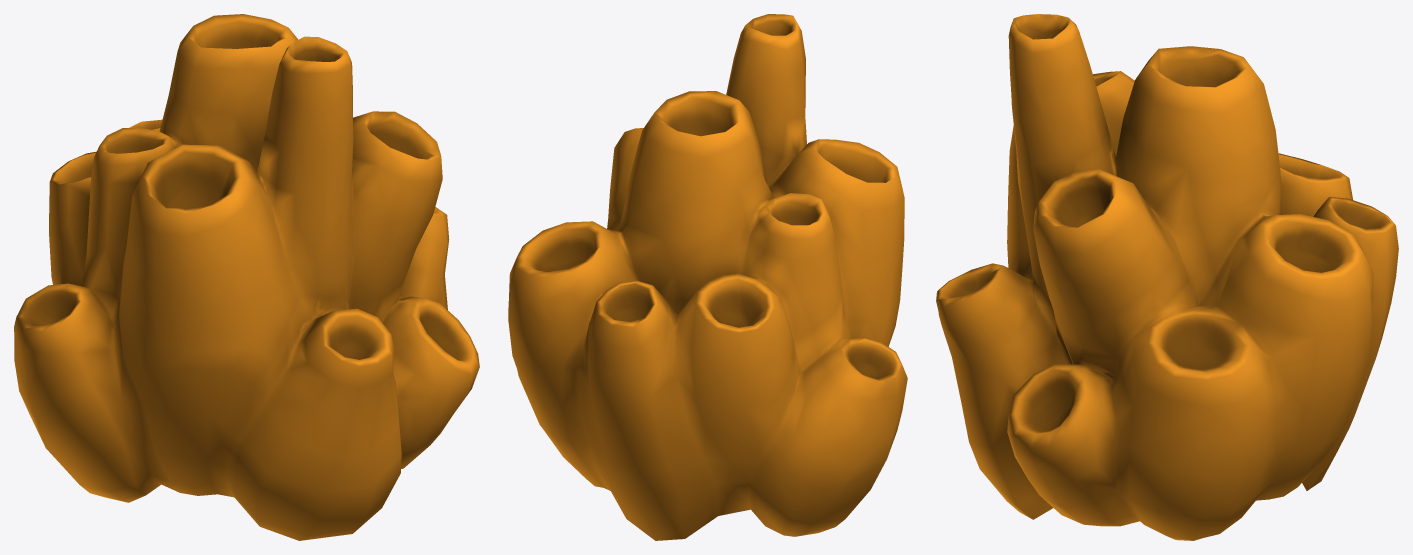
The model's file is coral1.fbx.
3 views of the same model, side by side, from view 1: azimuth 30°, elevation 25°; view 2: azimuth 150°, elevation 25°; view 3: azimuth 270°, elevation 25° (orthographic). The views are drawn at different scales.
Visible parts, largest first — view 1: coral10; view 2: coral10; view 3: coral10.
Part boxes in pixels (x1=…): coral10: x1=14, y1=14, x2=479, y2=540; coral10: x1=508, y1=14, x2=907, y2=540; coral10: x1=936, y1=14, x2=1398, y2=540.
Bounding box in the file's own units: 3.35 × 3.7 × 3.24.
Materials: 1 (1 with a texture image).
